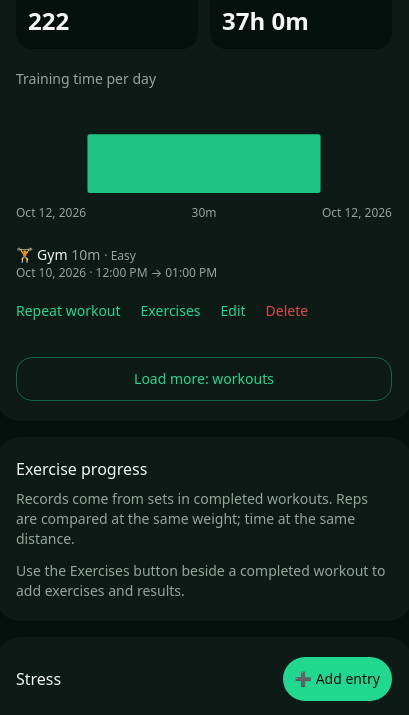
Test: loads older entries while totals continue to cover the entire period
The image size is (409, 715).
(page scrolled)
Expected: the text "222" is shown, x1=28 y1=4 x2=69 y2=37
Expected: the text "37h 0m" is shown, x1=222 y1=4 x2=309 y2=37
What coordinates should you click on to do the following:
click the button "Load more: workouts"
I would click on:
 (204, 379)
Its box is x1=16 y1=357 x2=392 y2=401.
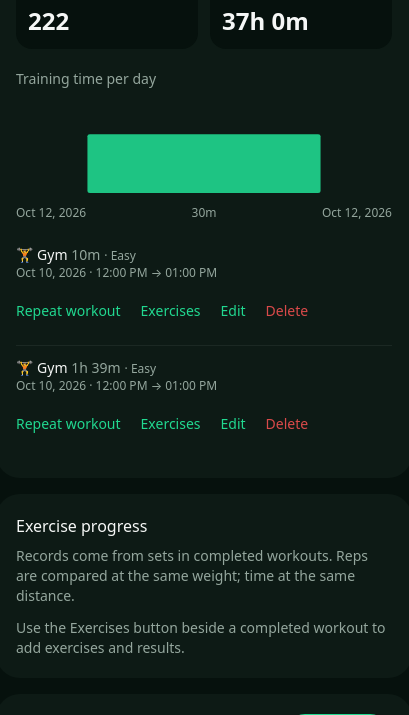
Expected: the text "222" is shown, x1=28 y1=4 x2=69 y2=37
Expected: the number of buttons "Exercises" is 2, x1=141 y1=289 x2=201 y2=333; x1=141 y1=402 x2=201 y2=446
Expected: the button "Load more: workouts" is gone
